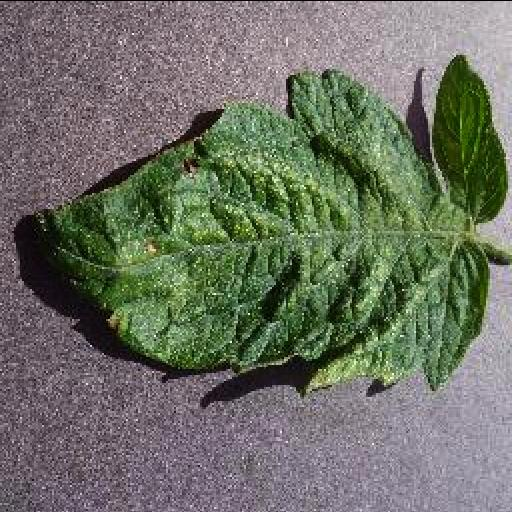disease_tomato: (28, 52, 508, 396)
